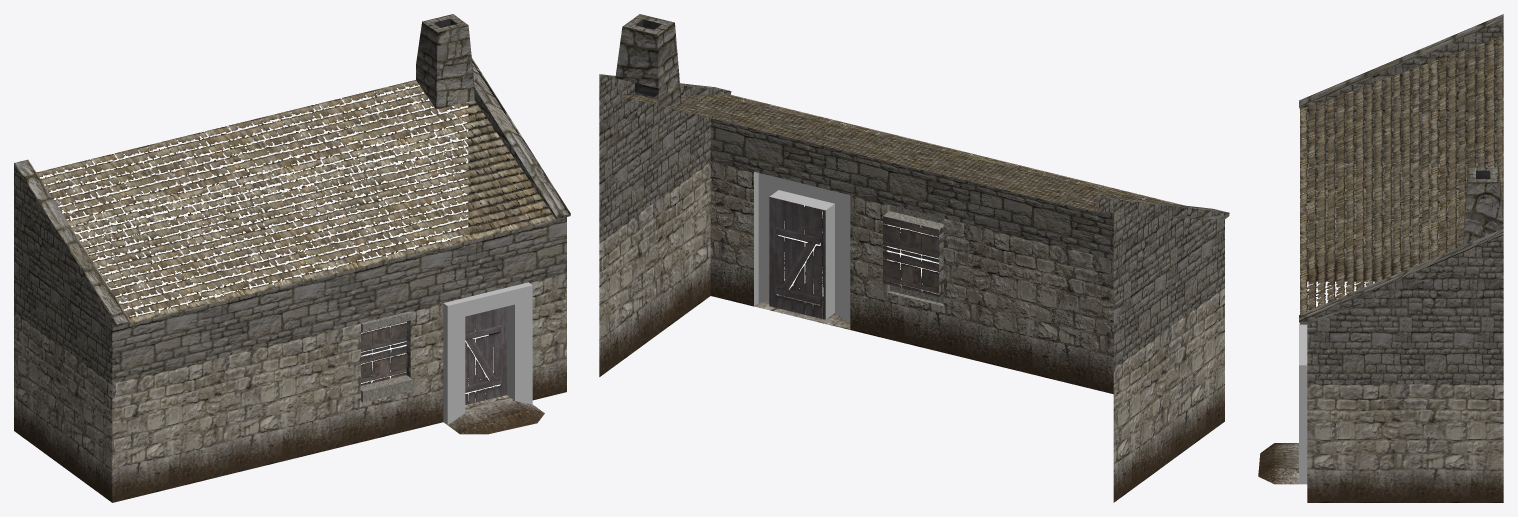
The model's file is poorlords_shed2.FBX.
3 renders of one model, left to right at view 1: azimuth 30°, elevation 25°; view 2: azimuth 150°, elevation 25°; view 3: azimuth 270°, elevation 25°, orthographic. The views are drawn at different scales.
Parts seen in each view (by area): view 1: Poorlords_shed2_; view 2: Poorlords_shed2_; view 3: Poorlords_shed2_.
Boxes of the visible parts, <box> form: Poorlords_shed2_: <box>14,14,570,502</box>; Poorlords_shed2_: <box>599,14,1229,502</box>; Poorlords_shed2_: <box>1258,14,1503,502</box>.
Bounding box in the file's own units: 1024 × 480 × 673.
